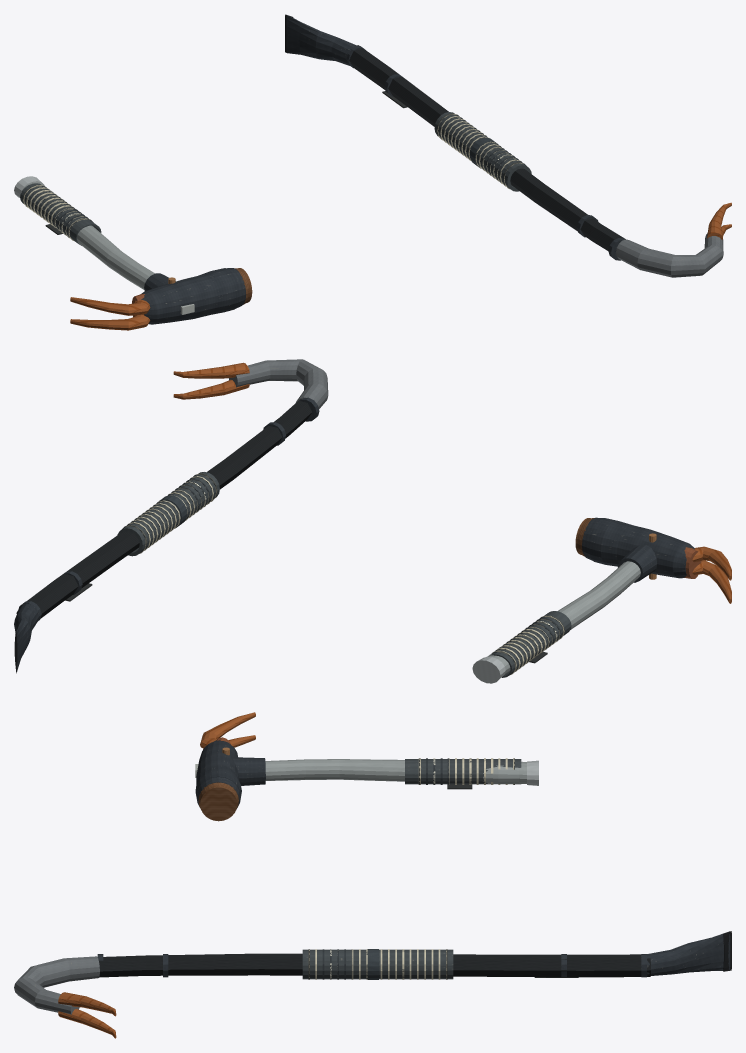
Rendered from PZ_TOOL_00_Hammer_Crowbar_Combined.glb.
The picture shows the model from 3 angles, top to bottom: view 1: azimuth 30°, elevation 25°; view 2: azimuth 150°, elevation 25°; view 3: azimuth 270°, elevation 25°; orthographic projection. The views are drawn at different scales.
Visible parts, largest first — view 1: CROWBAR_Bar_Forged_Hex_SolidShank, HAMMER_Head_Forged_Steel_Core, CROWBAR_Gooseneck_Curved_HookBody, CROWBAR_Handgrip_SlipResistant_RubberSleeve, CROWBAR_Tail_Flattened_Angled_Chisel_PryTip, HAMMER_Handle_Solid_Hickory_330mm, HAMMER_Grip_Rubber_OuterSleeve, CROWBAR_Handgrip_Embossed_Ridges_20, HAMMER_Grip_Ridges_14_MouldedRings, HAMMER_Claw_RIGHT_ForgedNailPryTine, HAMMER_Claw_LEFT_ForgedNailPryTine; view 2: CROWBAR_Bar_Forged_Hex_SolidShank, HAMMER_Head_Forged_Steel_Core, CROWBAR_Handgrip_SlipResistant_RubberSleeve, CROWBAR_Gooseneck_Curved_HookBody, HAMMER_Handle_Solid_Hickory_330mm, HAMMER_Grip_Rubber_OuterSleeve, CROWBAR_Handgrip_Embossed_Ridges_20, HAMMER_Grip_Ridges_14_MouldedRings, CROWBAR_Tail_Flattened_Angled_Chisel_PryTip, CROWBAR_Gooseneck_RIGHT_FlattenedNailClaw, HAMMER_Head_Eye_Neck_Collar, HAMMER_Handle_Butt_Endcap (+3 smaller); view 3: CROWBAR_Bar_Forged_Hex_SolidShank, CROWBAR_Handgrip_SlipResistant_RubberSleeve, HAMMER_Handle_Solid_Hickory_330mm, CROWBAR_Gooseneck_Curved_HookBody, CROWBAR_Tail_Flattened_Angled_Chisel_PryTip, HAMMER_Grip_Rubber_OuterSleeve, HAMMER_Head_Forged_Steel_Core, CROWBAR_Handgrip_Embossed_Ridges_20, HAMMER_Head_Face_Hardened_StrikingDisc, HAMMER_Grip_Ridges_14_MouldedRings, HAMMER_Head_Eye_Neck_Collar, CROWBAR_Gooseneck_RIGHT_FlattenedNailClaw (+2 smaller).
Part boxes in pixels (left/top/right/bottom): CROWBAR_Bar_Forged_Hex_SolidShank: left=349, top=45, right=625, bottom=251; HAMMER_Head_Forged_Steel_Core: left=141, top=268, right=239, bottom=324; CROWBAR_Gooseneck_Curved_HookBody: left=616, top=233, right=723, bottom=277; CROWBAR_Handgrip_SlipResistant_RubberSleeve: left=434, top=112, right=531, bottom=191; CROWBAR_Tail_Flattened_Angled_Chisel_PryTip: left=286, top=15, right=356, bottom=65; HAMMER_Handle_Solid_Hickory_330mm: left=21, top=182, right=154, bottom=289; HAMMER_Grip_Rubber_OuterSleeve: left=20, top=183, right=101, bottom=245; CROWBAR_Handgrip_Embossed_Ridges_20: left=436, top=113, right=526, bottom=189; HAMMER_Grip_Ridges_14_MouldedRings: left=22, top=185, right=93, bottom=241; HAMMER_Claw_RIGHT_ForgedNailPryTine: left=70, top=297, right=150, bottom=315; HAMMER_Claw_LEFT_ForgedNailPryTine: left=70, top=314, right=150, bottom=330; CROWBAR_Bar_Forged_Hex_SolidShank: left=16, top=399, right=311, bottom=618; HAMMER_Head_Forged_Steel_Core: left=589, top=518, right=694, bottom=578; CROWBAR_Handgrip_SlipResistant_RubberSleeve: left=117, top=472, right=219, bottom=556; CROWBAR_Gooseneck_Curved_HookBody: left=228, top=359, right=328, bottom=408; HAMMER_Handle_Solid_Hickory_330mm: left=487, top=561, right=640, bottom=674; HAMMER_Grip_Rubber_OuterSleeve: left=490, top=611, right=571, bottom=677; CROWBAR_Handgrip_Embossed_Ridges_20: left=122, top=473, right=217, bottom=553; HAMMER_Grip_Ridges_14_MouldedRings: left=492, top=615, right=564, bottom=674; CROWBAR_Tail_Flattened_Angled_Chisel_PryTip: left=14, top=603, right=39, bottom=672; CROWBAR_Gooseneck_RIGHT_FlattenedNailClaw: left=173, top=362, right=249, bottom=378; HAMMER_Head_Eye_Neck_Collar: left=618, top=545, right=656, bottom=582; HAMMER_Handle_Butt_Endcap: left=472, top=656, right=505, bottom=683; CROWBAR_Bar_Forged_Hex_SolidShank: left=99, top=953, right=650, bottom=977; CROWBAR_Handgrip_SlipResistant_RubberSleeve: left=302, top=949, right=453, bottom=979; HAMMER_Handle_Solid_Hickory_330mm: left=265, top=759, right=526, bottom=784; CROWBAR_Gooseneck_Curved_HookBody: left=14, top=956, right=99, bottom=1014; CROWBAR_Tail_Flattened_Angled_Chisel_PryTip: left=645, top=931, right=730, bottom=975; HAMMER_Grip_Rubber_OuterSleeve: left=405, top=759, right=521, bottom=784; HAMMER_Head_Forged_Steel_Core: left=195, top=740, right=241, bottom=804; CROWBAR_Handgrip_Embossed_Ridges_20: left=308, top=949, right=447, bottom=979; HAMMER_Head_Face_Hardened_StrikingDisc: left=198, top=782, right=238, bottom=821; HAMMER_Grip_Ridges_14_MouldedRings: left=418, top=758, right=514, bottom=784; HAMMER_Head_Eye_Neck_Collar: left=233, top=757, right=265, bottom=785; CROWBAR_Gooseneck_RIGHT_FlattenedNailClaw: left=58, top=992, right=116, bottom=1016.
Bounding box in the file's own units: 0.7635 × 0.05 × 0.7712.
Materials: 1 (1 with a texture image).
